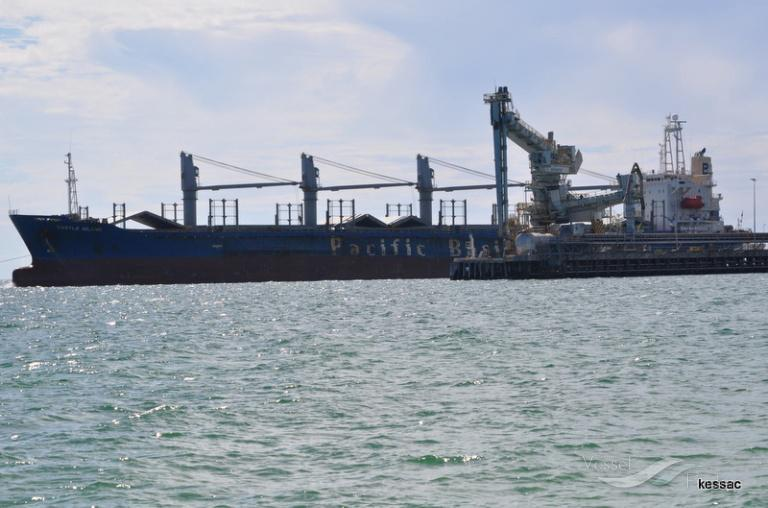OCR: (318, 230, 503, 263)
